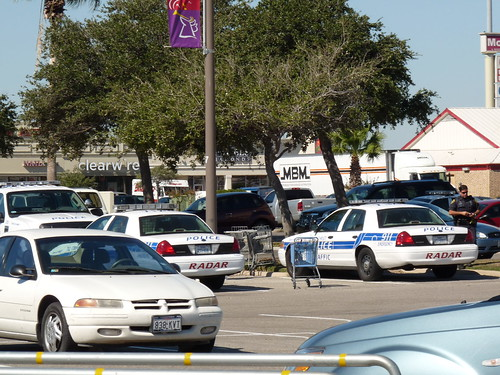building: (1, 129, 271, 190), (396, 103, 500, 197)
car: (1, 230, 222, 349)
police car: (275, 191, 474, 281), (83, 201, 245, 281)
policeman: (445, 182, 479, 244)
sky: (396, 1, 500, 102)
tree: (38, 1, 380, 193)
truck: (274, 150, 445, 188)
